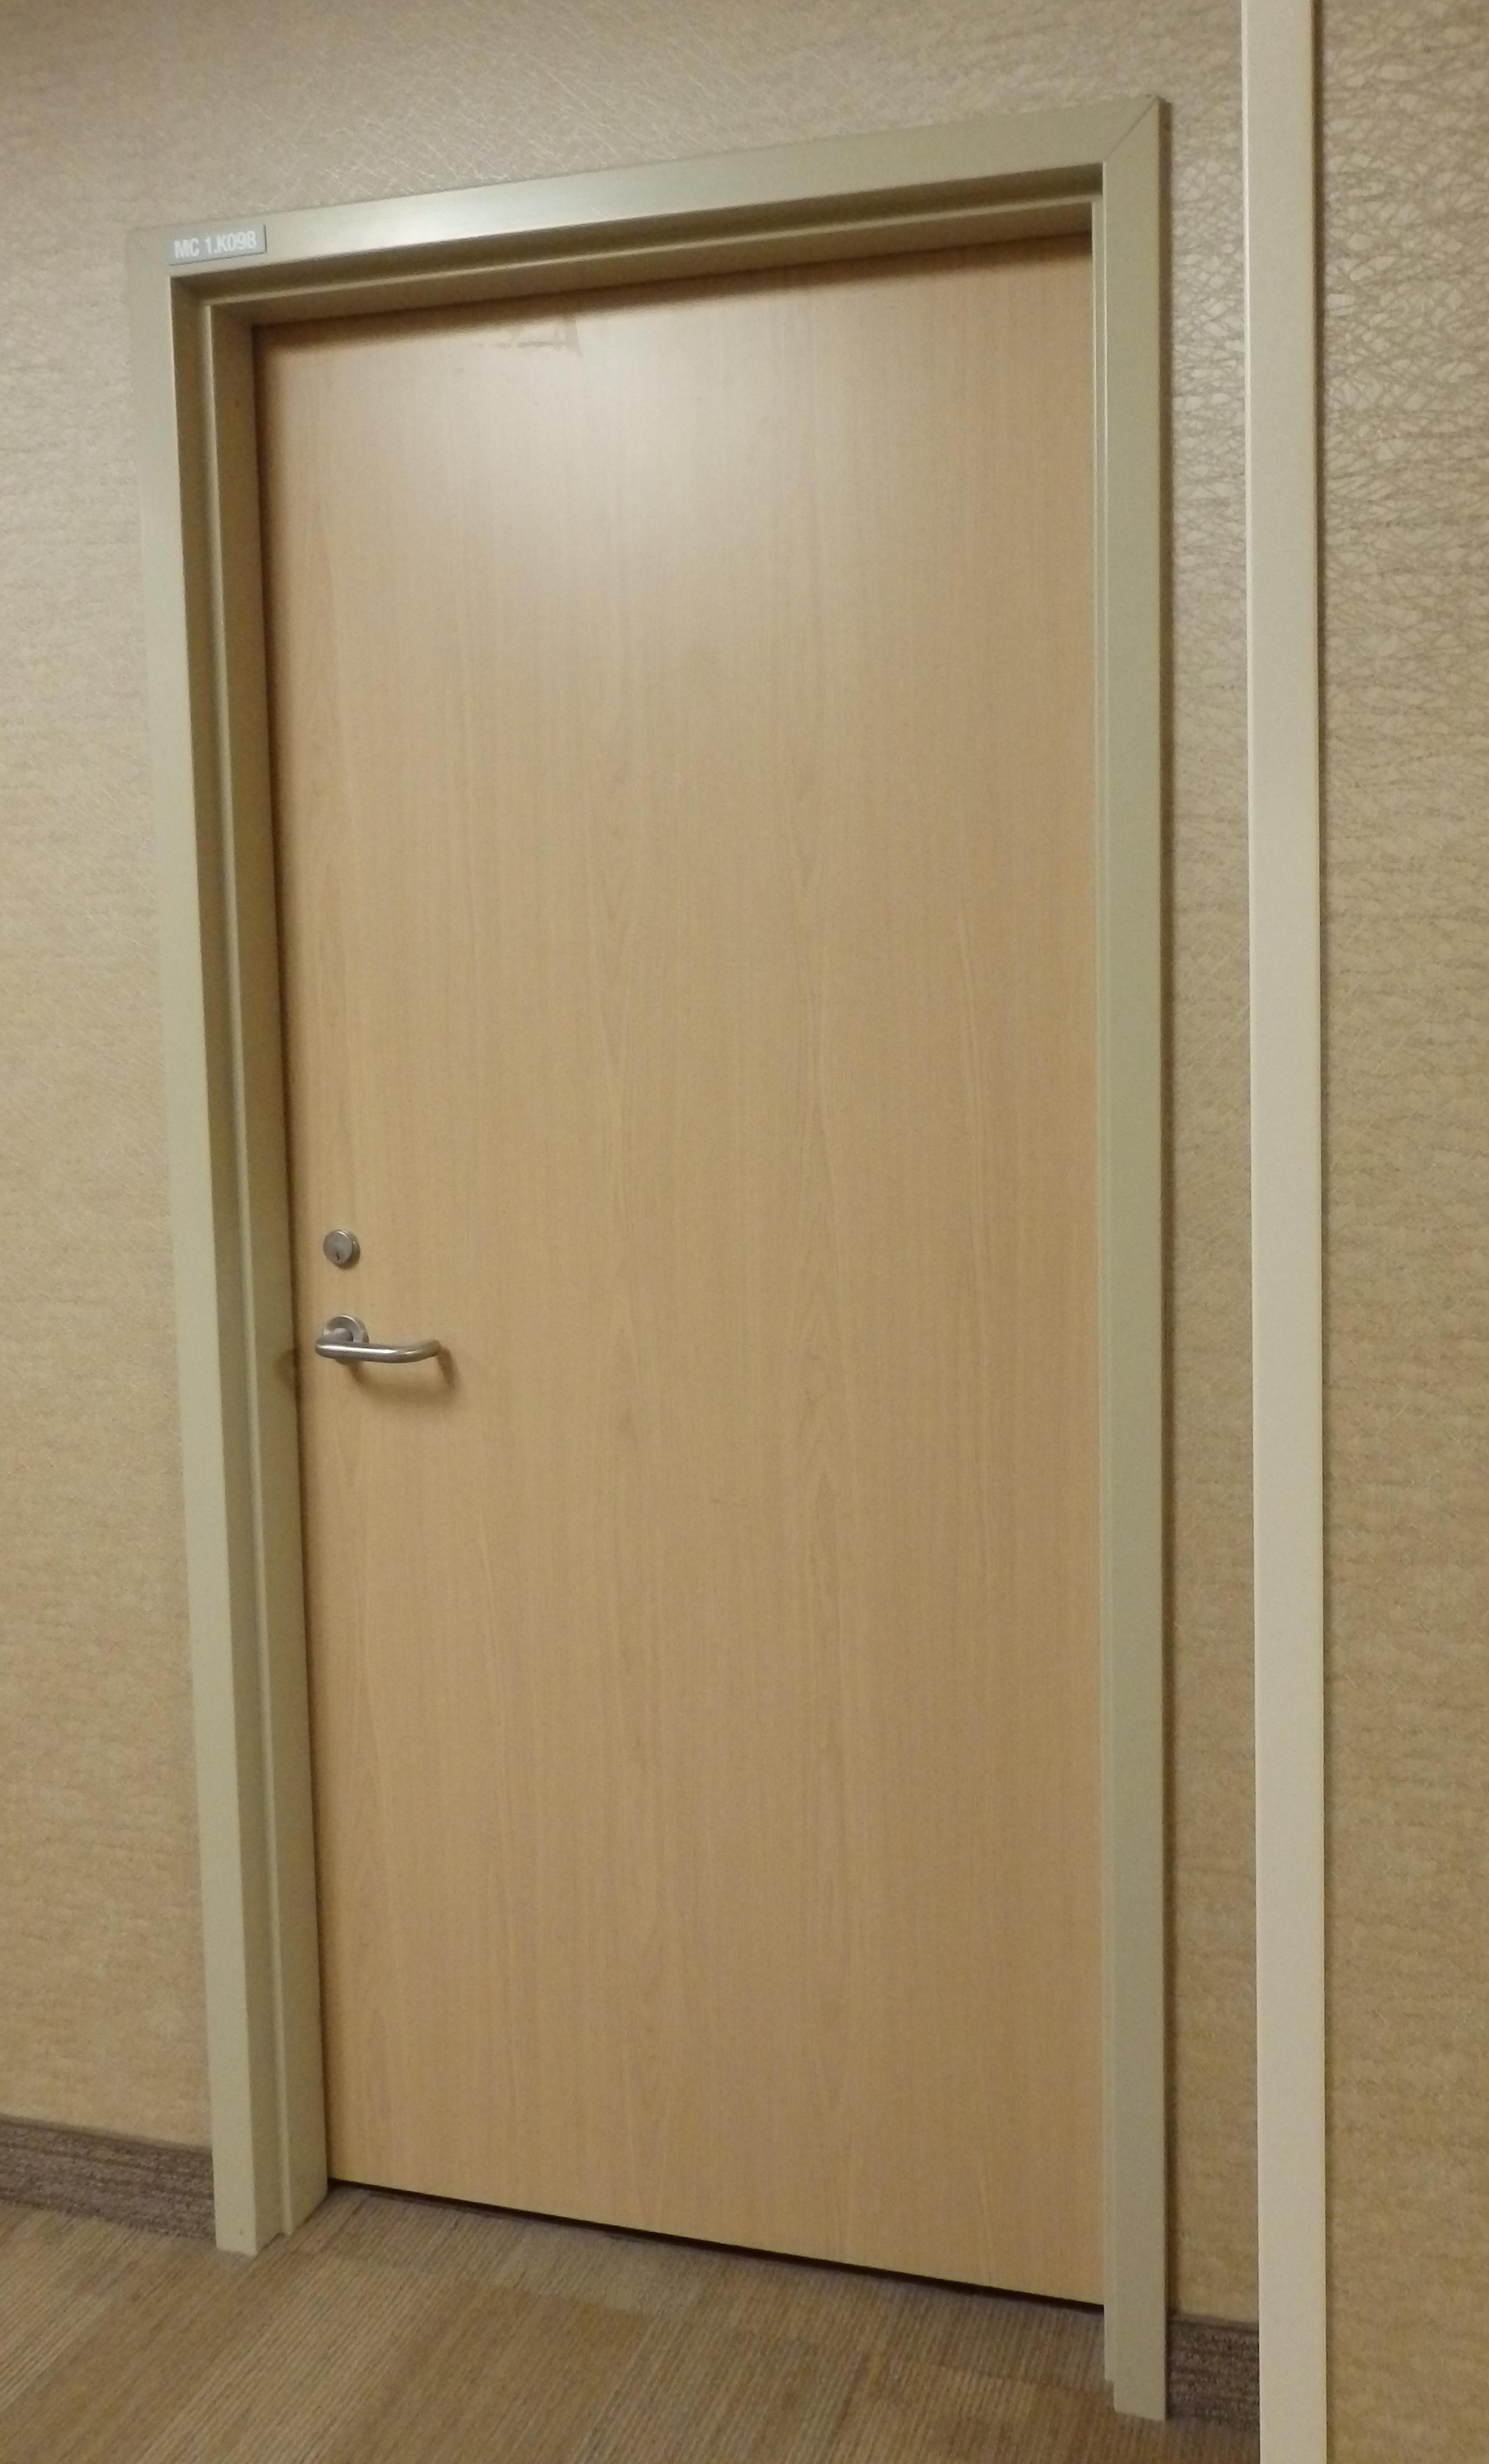door: (148, 215, 1172, 2390)
